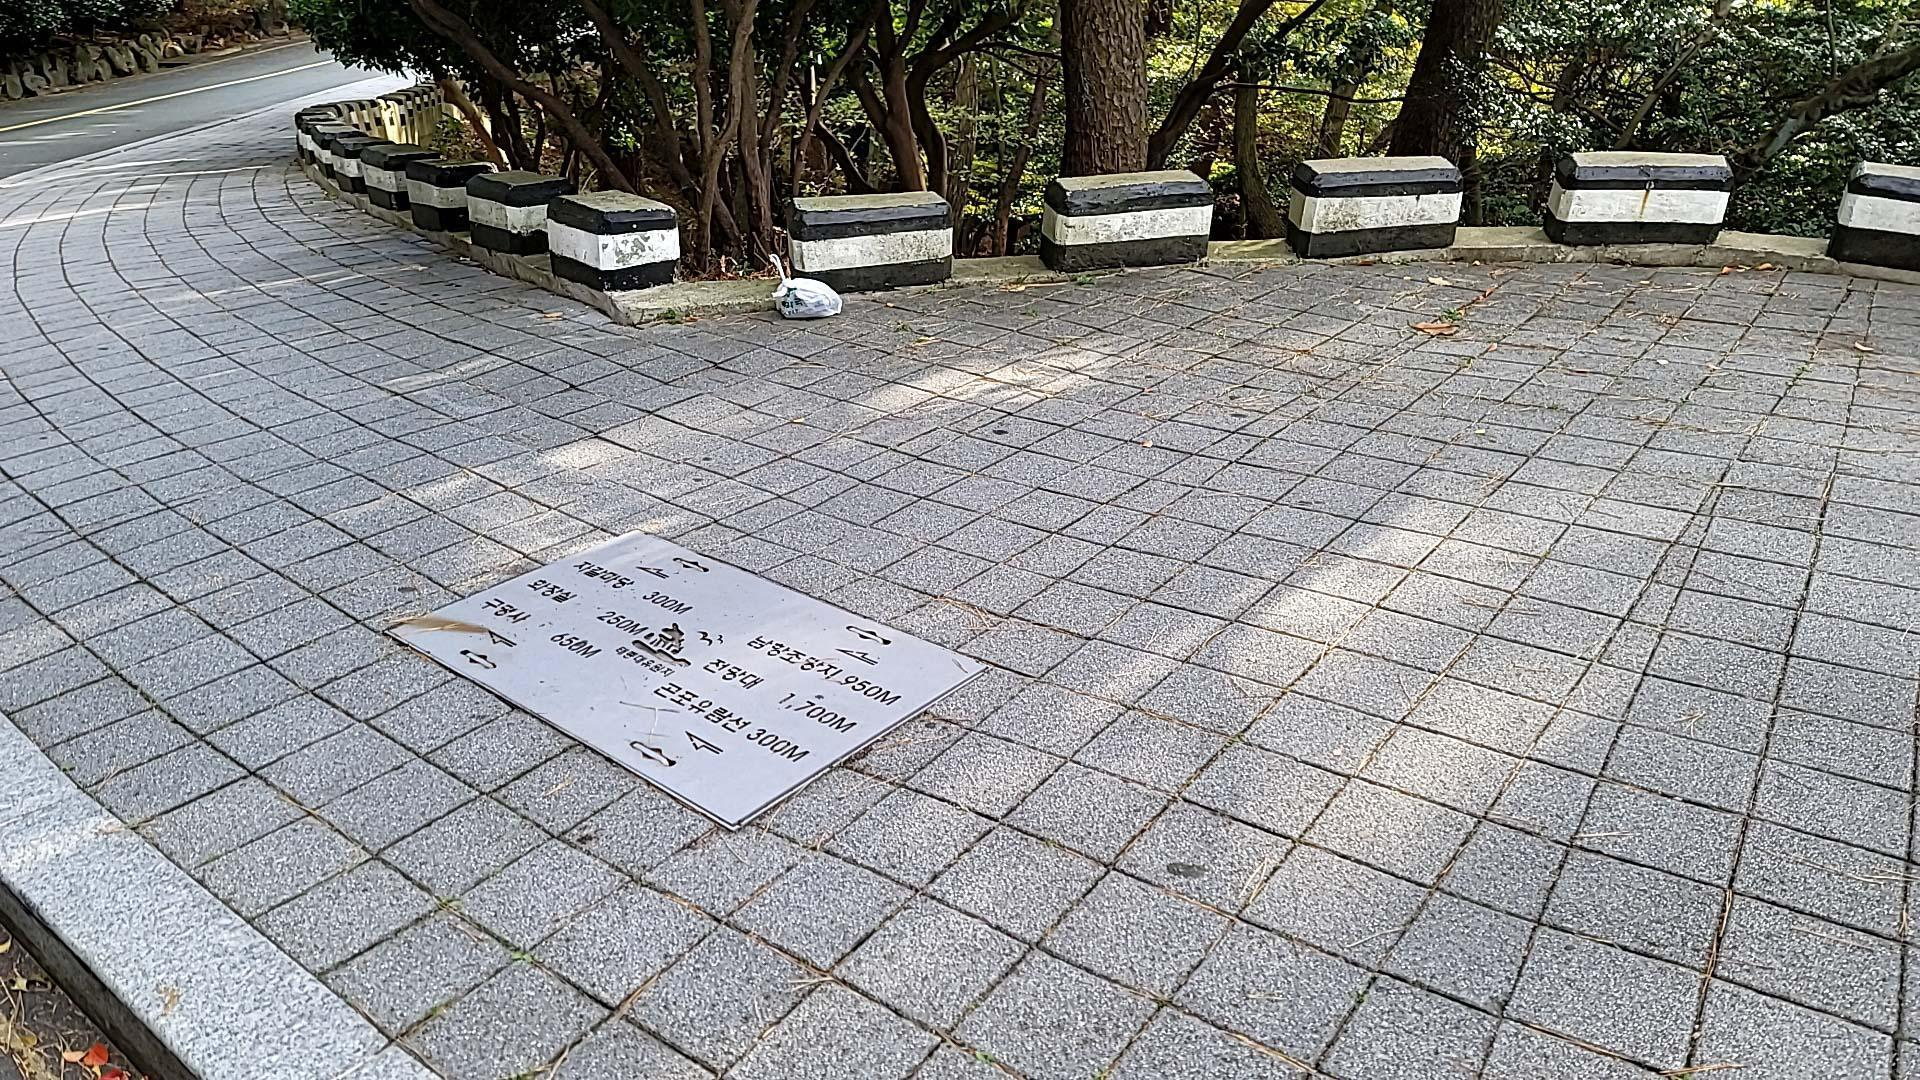white_bag: (762, 249, 847, 320)
